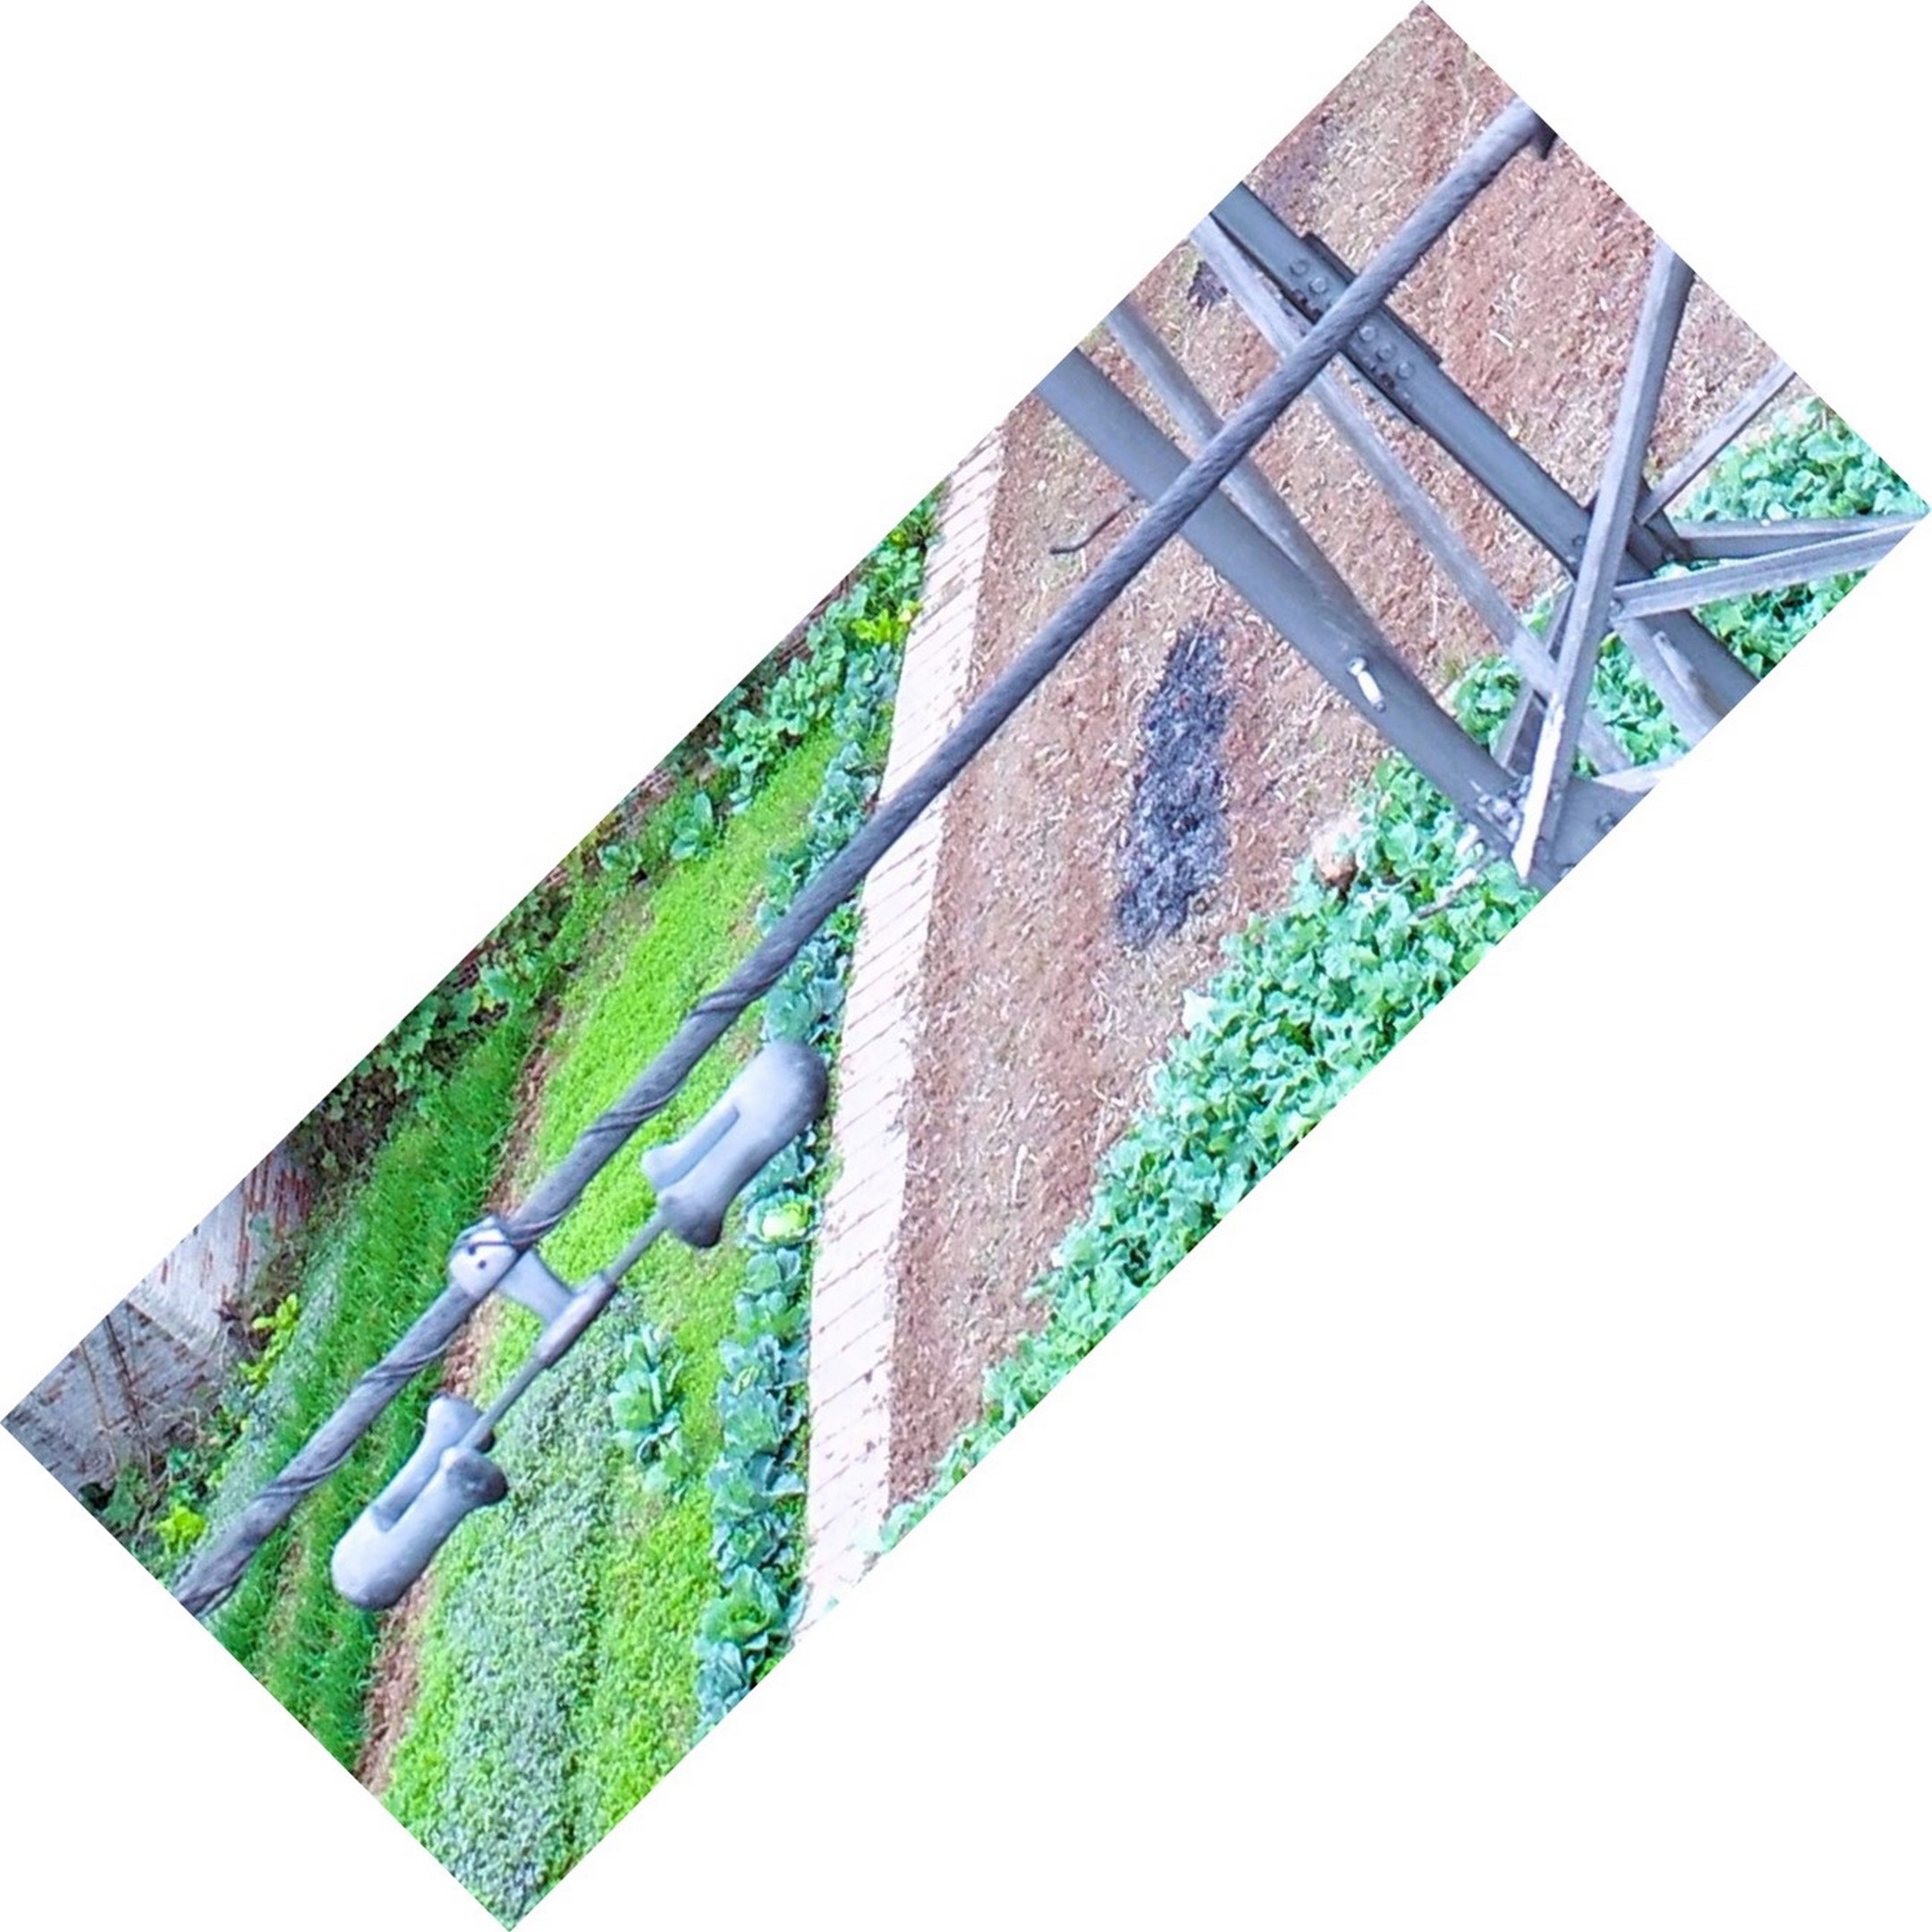Shockproof hammer: (294, 1008, 851, 1644)
